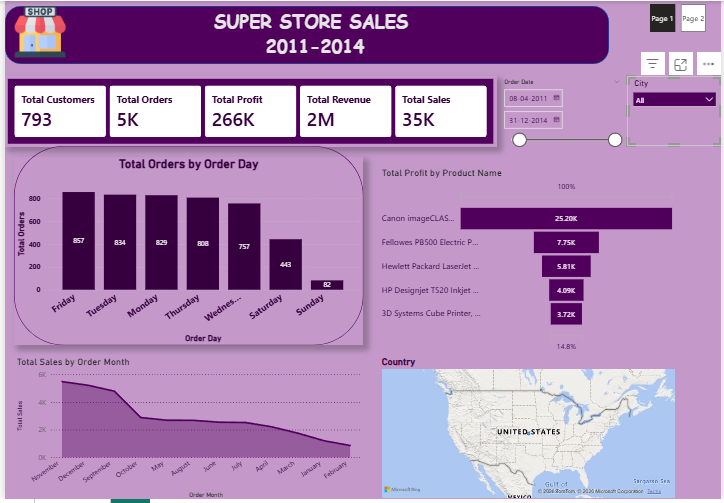

Layout of this report page (visuals, bound fields, positions):
{"tool":"powerbi","page":{"name":"Page 1","canvas":[1280,900],"ordinal":0},"visuals":[{"type":"shape","box":[0,17.9,1078.6,103.6],"z":0},{"type":"textbox","box":[112.5,17.9,882.1,103.6],"z":1000},{"type":"image","box":[15,18.3,96.7,91.7],"z":2000},{"type":"cardVisual","fields":{"Data":["Superstore.Total Customers","Superstore.Total Orders","Superstore.Total Profit","Superstore.Total Revenue","Superstore.Total Sales"]},"box":[0,142,878,126],"z":3000},{"type":"clusteredColumnChart","fields":{"Category":["Superstore.Order Day"],"Y":["Superstore.Total Orders"]},"box":[16,288,624,336],"z":4000},{"type":"areaChart","fields":{"Category":["Superstore.Order Month"],"Y":["Superstore.Total Sales"]},"box":[16,642,624,258],"z":5000},{"type":"funnel","fields":{"Category":["Superstore.Product Name"],"Y":["Superstore.Total Profit"]},"box":[668.6,305.9,533.3,335.3],"z":6000},{"type":"pageNavigator","box":[1152,14,100,50],"z":7000},{"type":"slicer","fields":{"Values":["Superstore.Order Date"]},"box":[878,142,232,126],"z":8000},{"type":"shape","box":[16,268,624,356],"z":9000},{"type":"slicer","fields":{"Values":["Superstore.City"]},"box":[1110,142,170,126],"z":10000},{"type":"map","fields":{"Category":["Superstore.Country"]},"box":[668,642,534,258],"z":11000}]}

Visuals, with their boxes on the page's 1280x900 design canvas (x1, y1, x2, y2). These are canvas units, not pixel positions in the 724x503 screenshot, which may show the page scaled, cropped or inside an application window:
shape: (0,18,1079,122)
textbox: (112,18,995,122)
image: (15,18,112,110)
cardVisual - Superstore.Total Customers x Superstore.Total Orders: (0,142,878,268)
clusteredColumnChart - Superstore.Order Day x Superstore.Total Orders: (16,288,640,624)
areaChart - Superstore.Order Month x Superstore.Total Sales: (16,642,640,900)
funnel - Superstore.Product Name x Superstore.Total Profit: (669,306,1202,641)
pageNavigator: (1152,14,1252,64)
slicer - Superstore.Order Date: (878,142,1110,268)
shape: (16,268,640,624)
slicer - Superstore.City: (1110,142,1280,268)
map - Superstore.Country: (668,642,1202,900)
